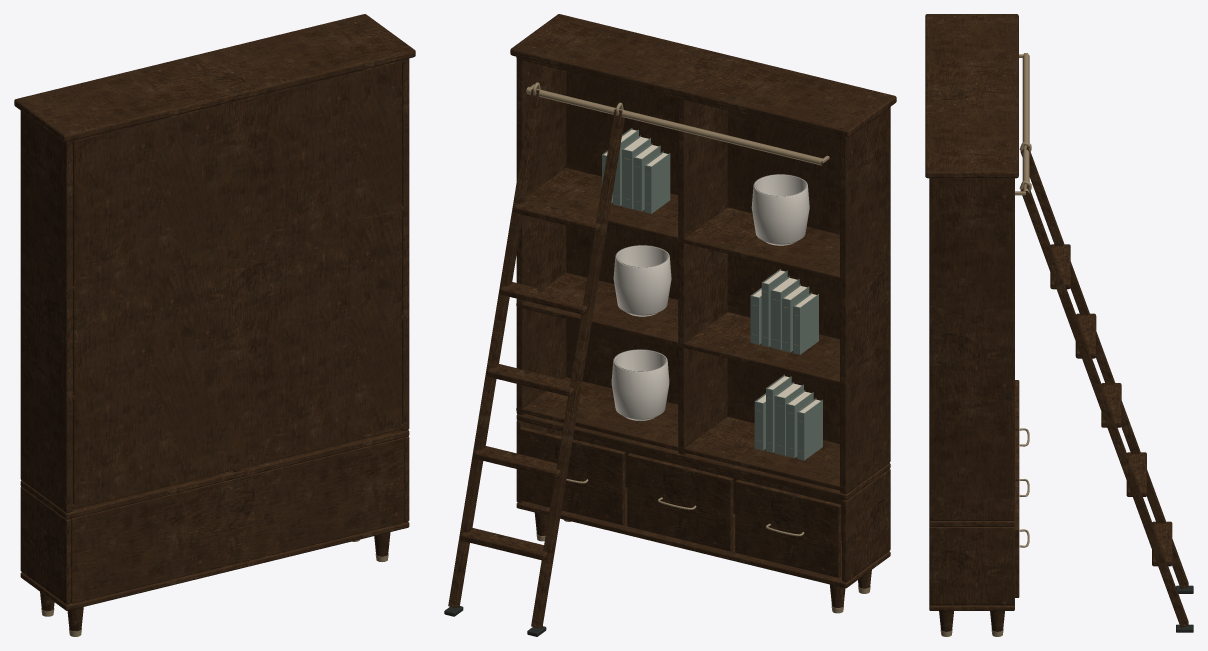
The model's file is storage2-library-ladder.glb.
The picture shows the model from 3 angles, left to right: view 1: azimuth 30°, elevation 25°; view 2: azimuth 150°, elevation 25°; view 3: azimuth 270°, elevation 25°; orthographic projection. The views are drawn at different scales.
Parts seen in each view (by area): view 1: walnut_surfaces; view 2: walnut_surfaces, binding_surfaces, ceramic_surfaces, bronze_surfaces, paper_surfaces; view 3: walnut_surfaces, bronze_surfaces.
Boxes of the visible parts, box(x1,y1,x2,y2) form: walnut_surfaces: box(14, 14, 415, 631); walnut_surfaces: box(448, 14, 896, 628); binding_surfaces: box(602, 128, 822, 460); ceramic_surfaces: box(611, 174, 809, 420); bronze_surfaces: box(526, 82, 870, 613); paper_surfaces: box(604, 129, 820, 412); walnut_surfaces: box(925, 14, 1188, 631); bronze_surfaces: box(940, 53, 1031, 636).
Bounding box in the file's own units: 1.62 × 2.25 × 1.16.
Materials: 6 (1 with a texture image).
